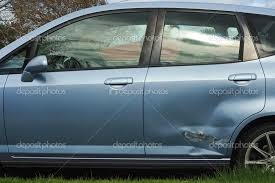Dent: (148, 83, 264, 150)
Scratch: (180, 129, 219, 146)
